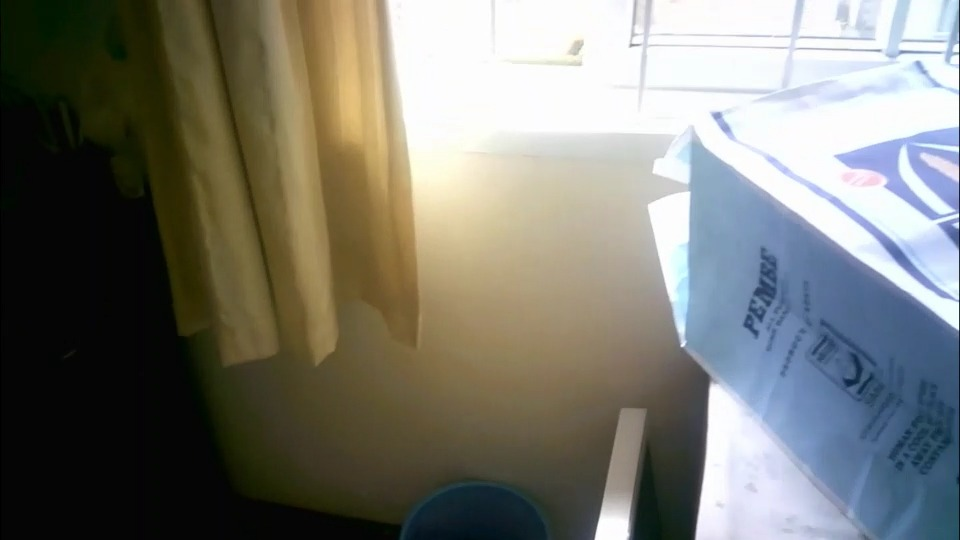wheat_flour_blue_label: (674, 62, 960, 539)
